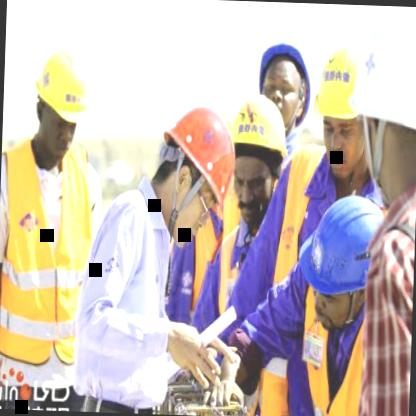helmet: (154, 92, 238, 235), (297, 188, 381, 324), (354, 32, 416, 199), (210, 90, 284, 224), (29, 33, 100, 169), (312, 35, 376, 181), (250, 40, 312, 124)
